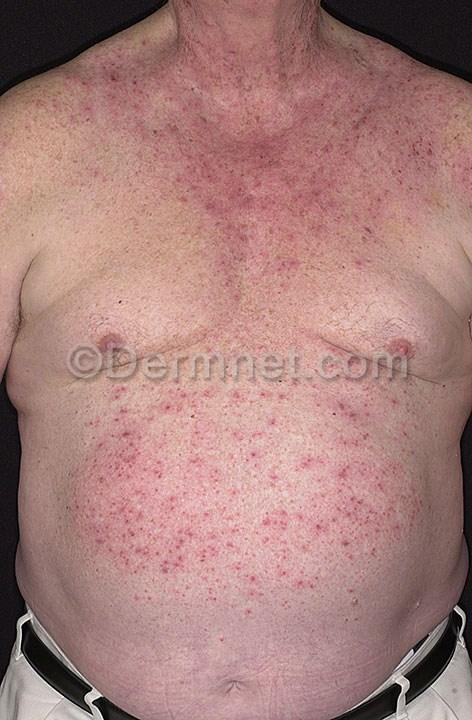Eczema: (208, 377, 437, 635), (38, 384, 220, 643), (198, 66, 394, 244), (37, 48, 203, 186), (370, 64, 472, 184), (201, 244, 302, 360), (300, 685, 303, 688)
